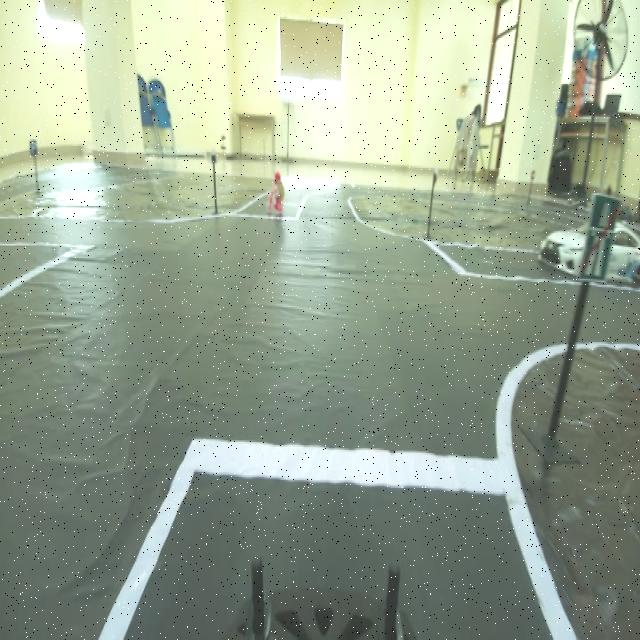highway_exit: (578, 184, 622, 288)
